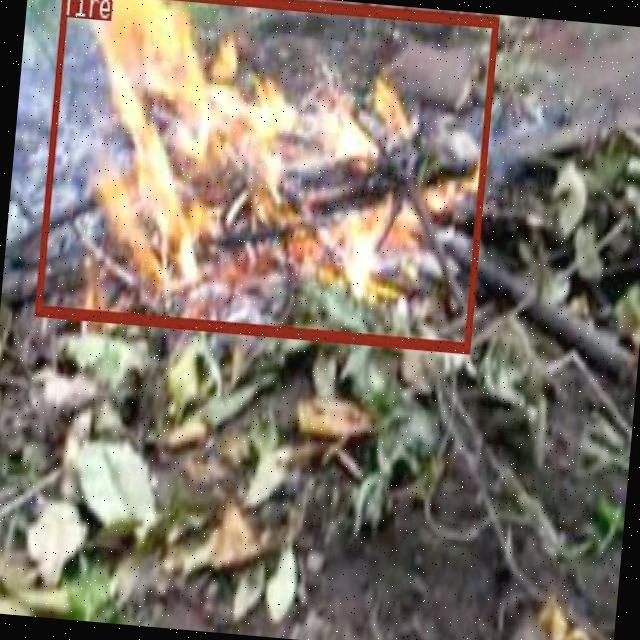fire: (33, 0, 497, 351)
